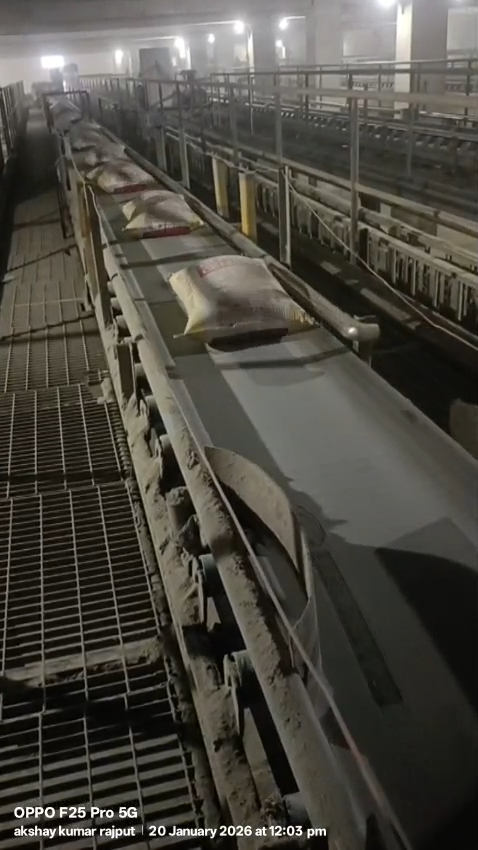Bag: (173, 244, 303, 340), (119, 196, 194, 237), (86, 160, 150, 190)
Printed: (189, 254, 266, 280)
